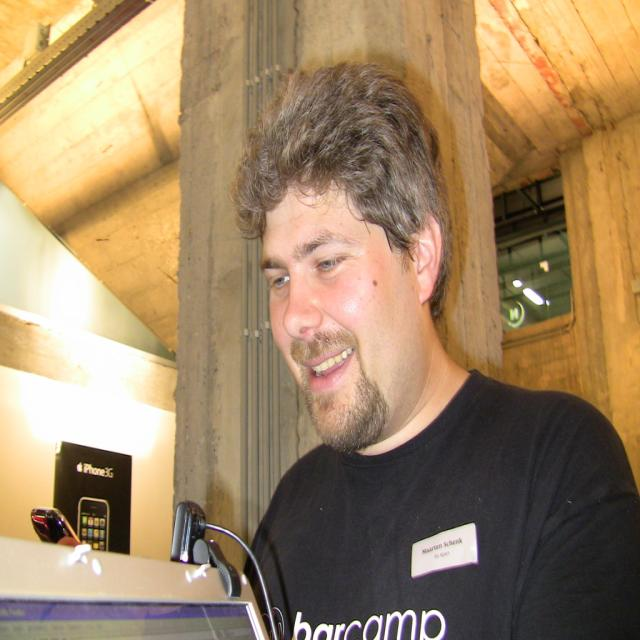Mobile-phone: (30, 506, 86, 546), (78, 496, 110, 548)
